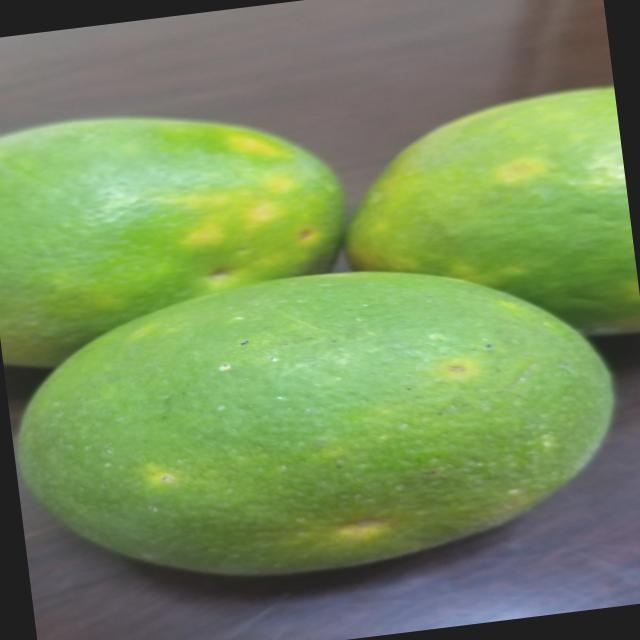agrume: (0, 226, 632, 608), (0, 74, 367, 375), (324, 77, 640, 372)
